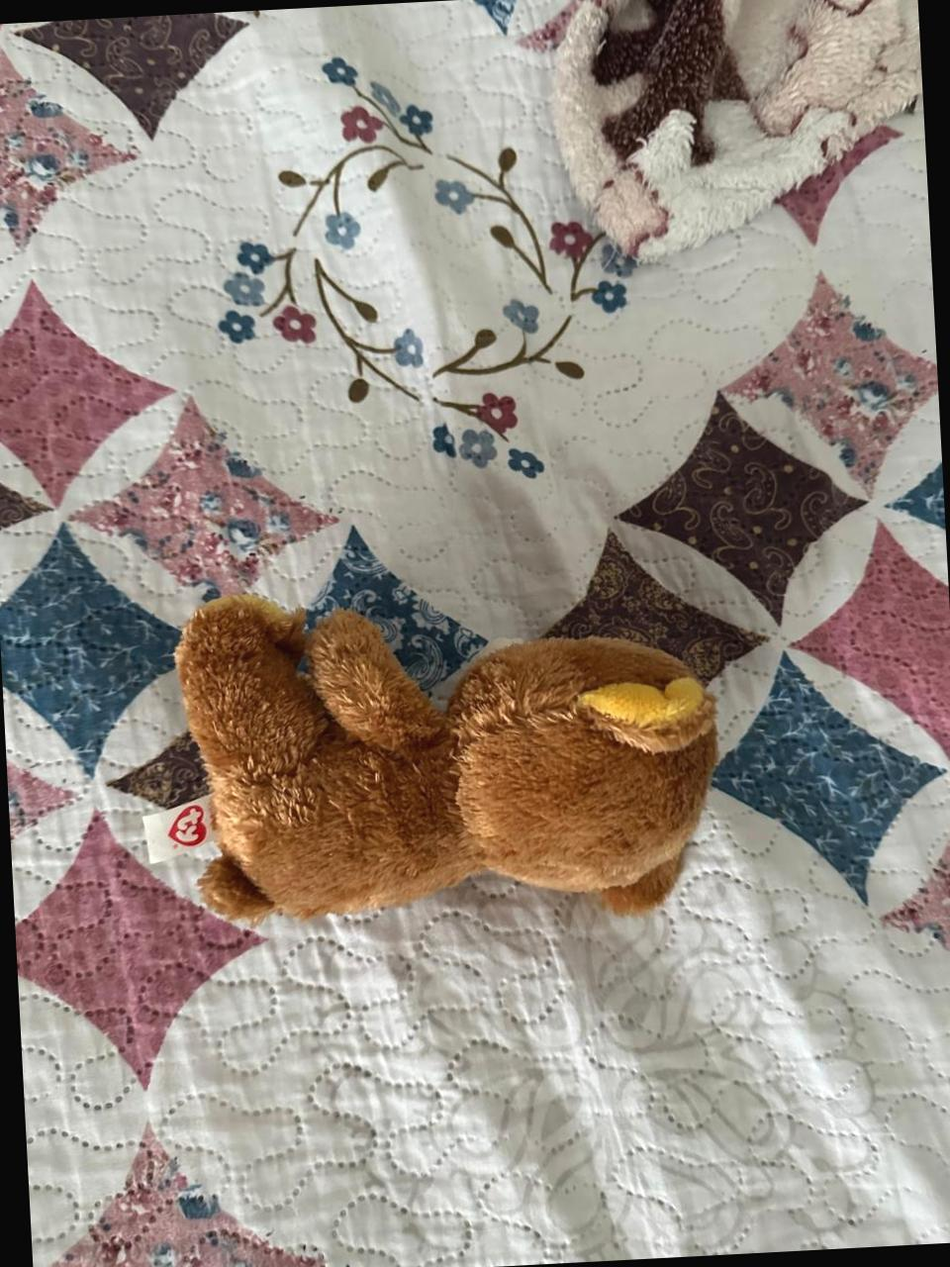peluche_sebastian: (168, 567, 730, 946)
